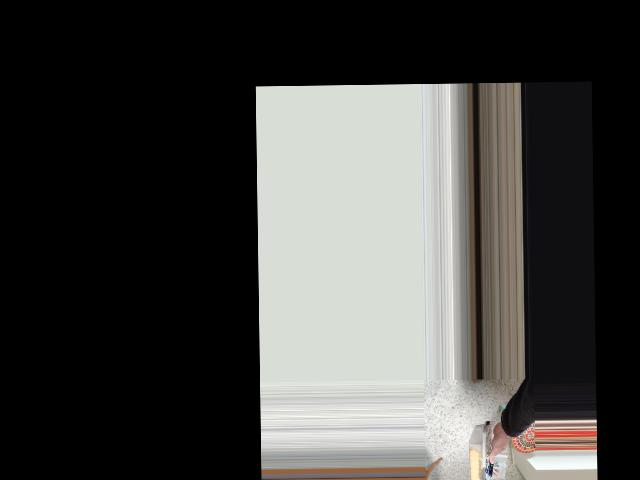cheese: (463, 416, 529, 480)
